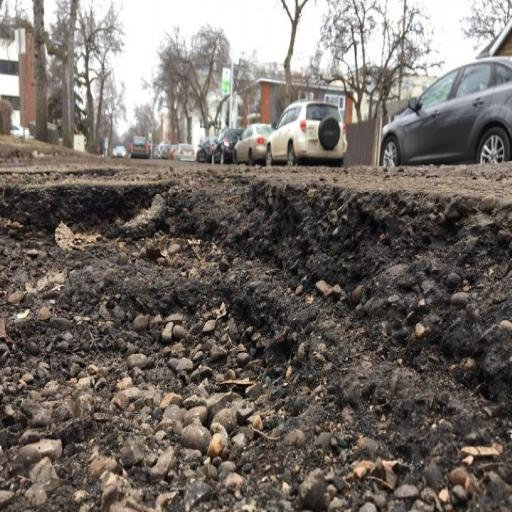pothole: (66, 148, 393, 426)
